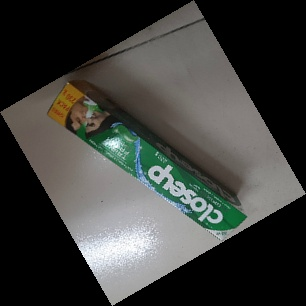CloseUp Xanh: (46, 80, 248, 243)
